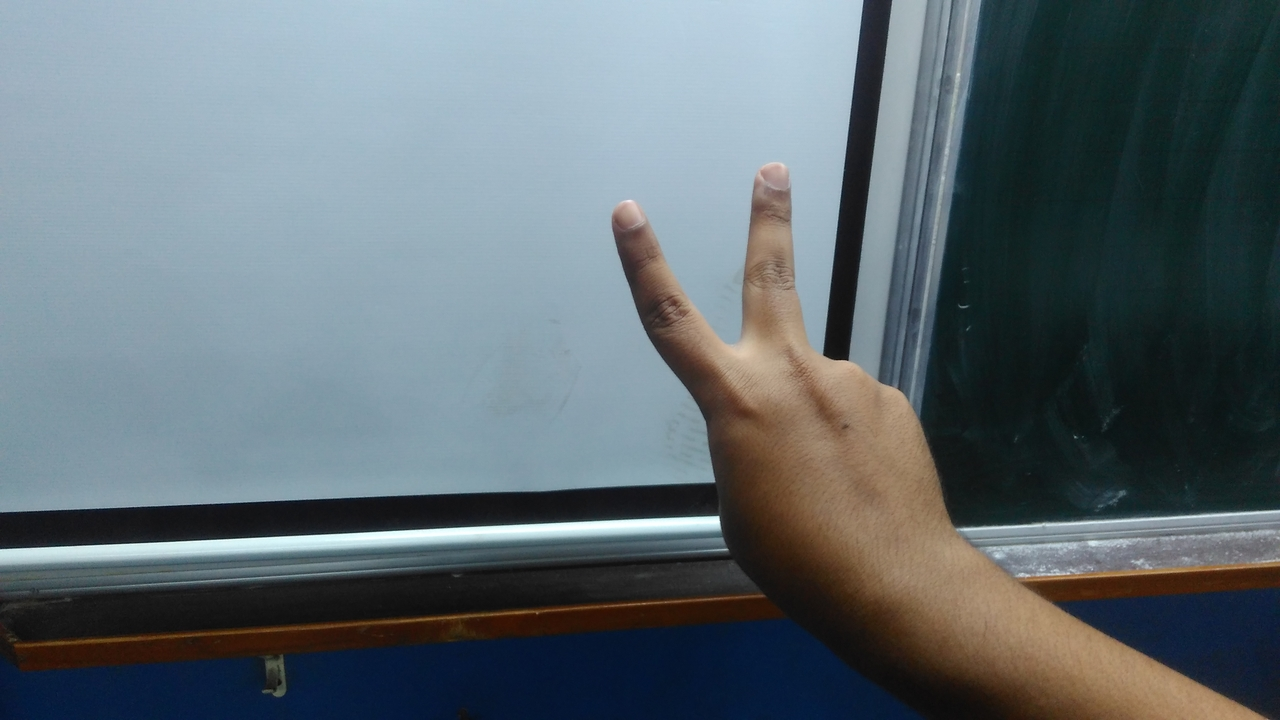fingertip: (604, 186, 662, 240), (742, 154, 800, 202)
